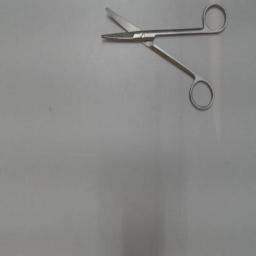Curved Mayo Scissors: (100, 0, 230, 116)
